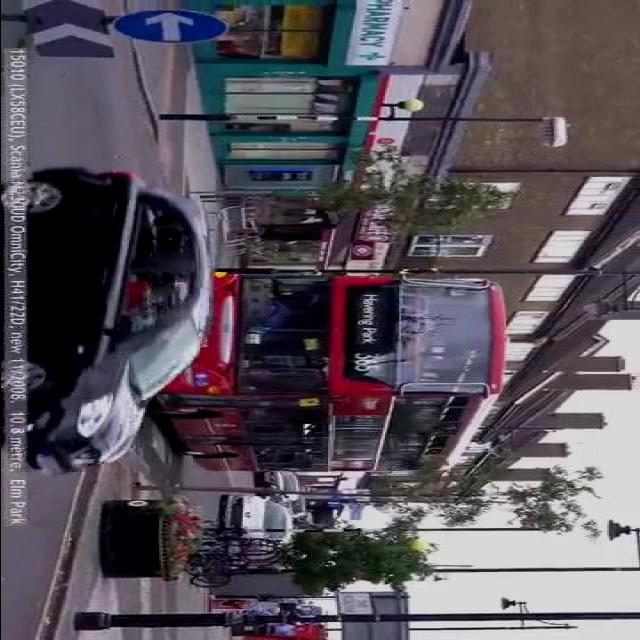bus: (159, 271, 505, 484)
